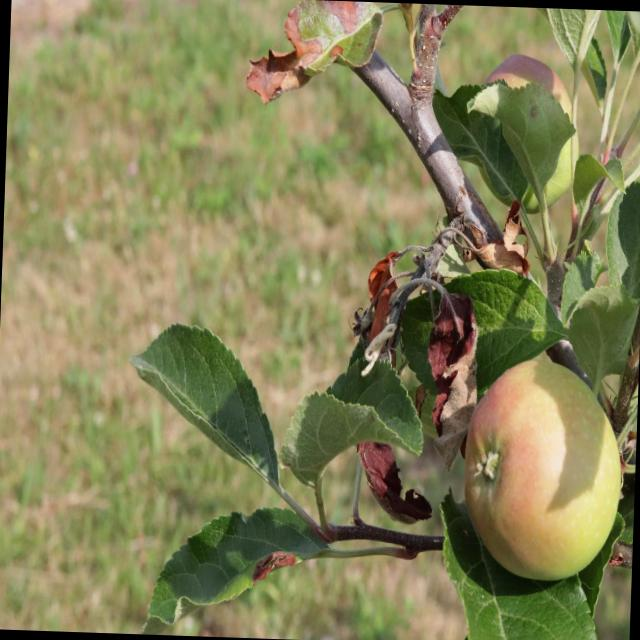-FireBlight-: (339, 208, 540, 469), (250, 0, 394, 107)
